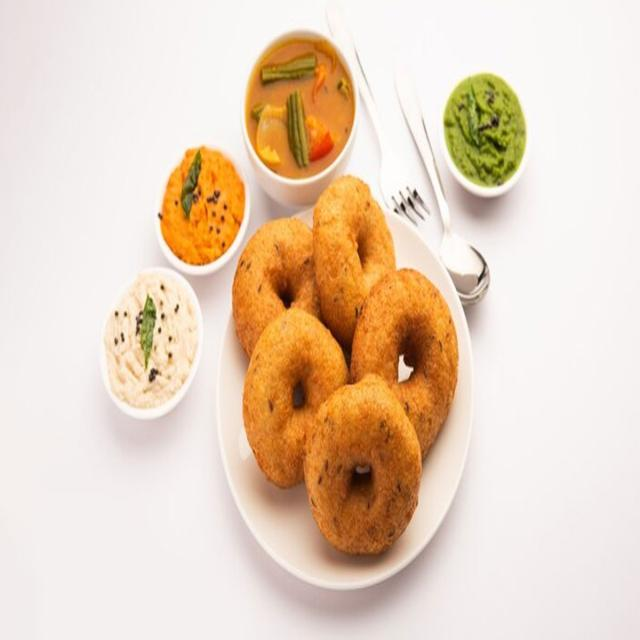medu vadai: (230, 174, 458, 559), (233, 199, 461, 576), (351, 270, 457, 457), (312, 174, 395, 346), (231, 217, 320, 357)
puthina chutney: (154, 144, 250, 279), (440, 65, 529, 199)
sambar: (240, 24, 355, 208)
thengai chutney: (100, 266, 202, 421)
